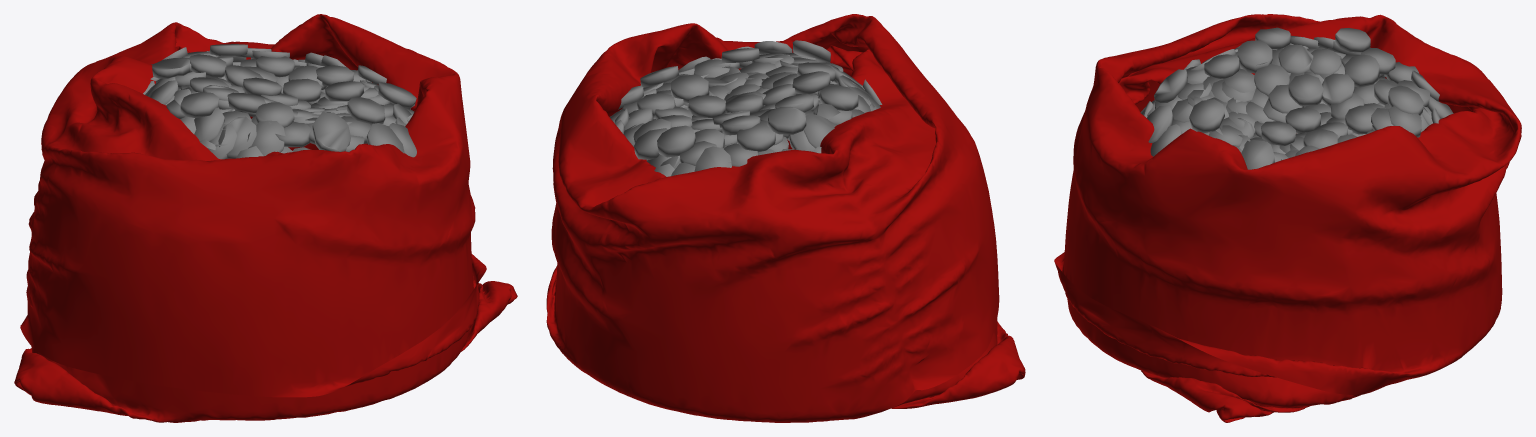
The model's file is RazgovorGOLD_01.FBX.
The picture shows the model from 3 angles, left to right: view 1: azimuth 30°, elevation 25°; view 2: azimuth 150°, elevation 25°; view 3: azimuth 270°, elevation 25°; orthographic projection.
Visible parts, largest first — view 1: Gold; view 2: Gold; view 3: Gold.
Boxes of the visible parts, x1,y1,x2,y2 form: Gold: (14, 14, 517, 422); Gold: (546, 14, 1025, 422); Gold: (1054, 14, 1521, 422).
Size of the model in its own units: 0.00752 by 0.00395 by 0.0065.
